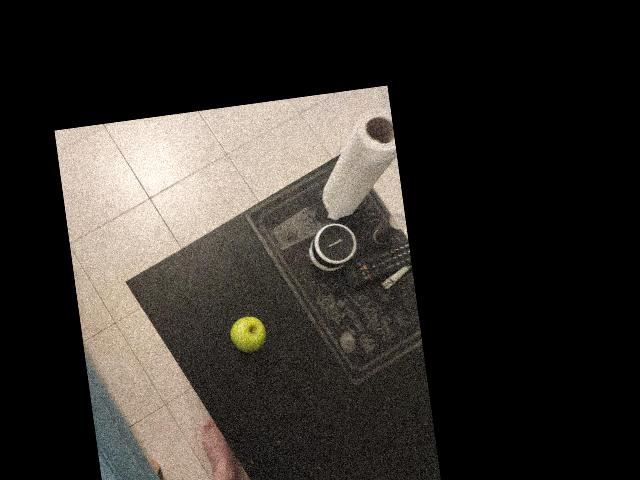apple: (156, 255, 207, 307)
